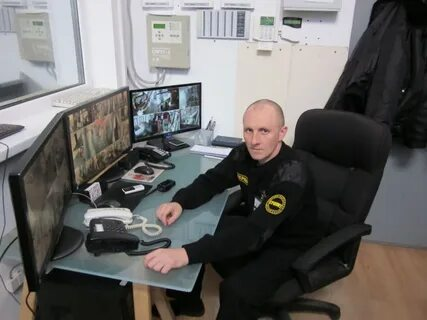awake: (187, 98, 321, 260)
